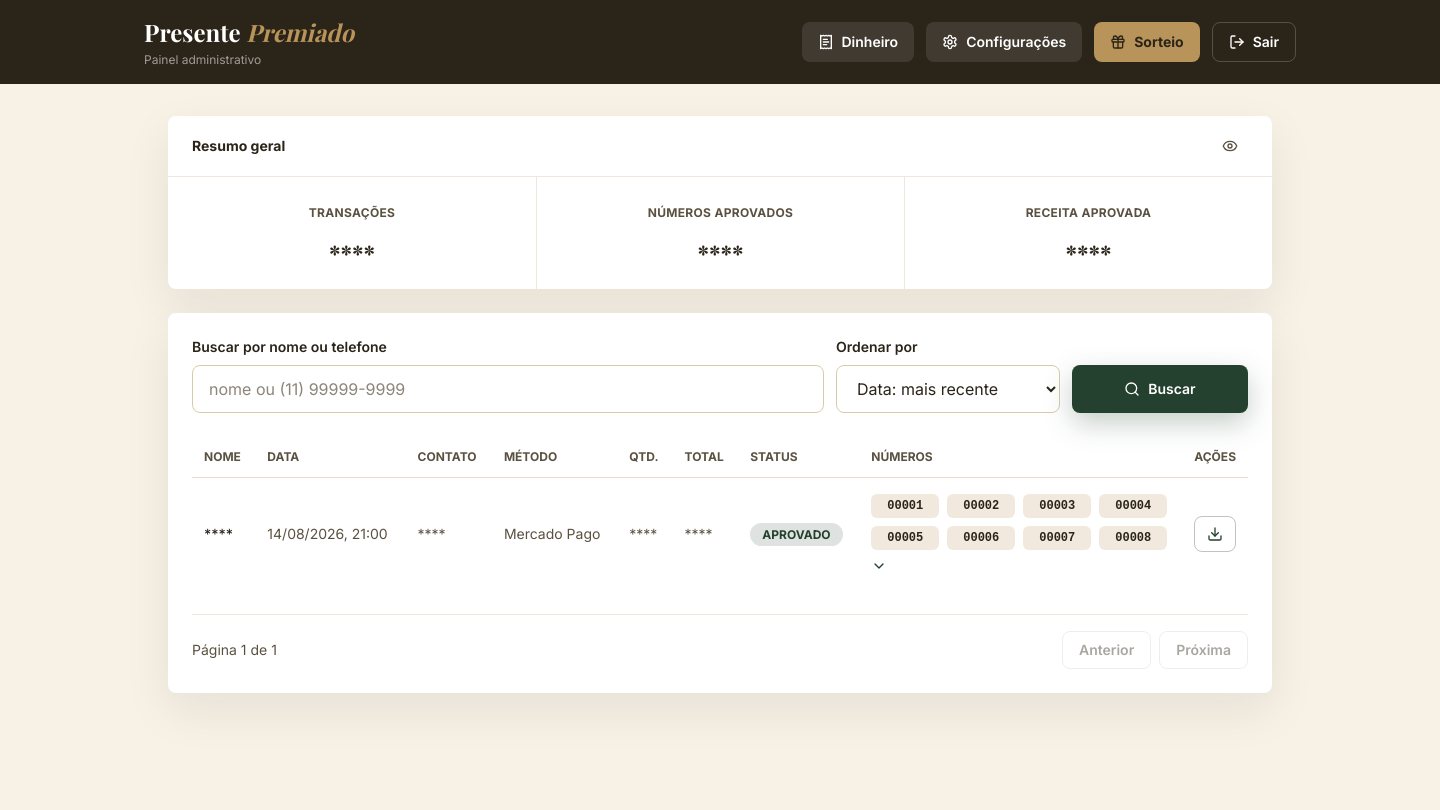
App › expands and collapses transaction lucky numbers above the initial limit
The image size is (1440, 810).
Expected: the text "00008" is shown, [1099,526,1167,550]
Expected: the text "00009" is not shown
Click the button named "00008" at (328, 534), box [192,478,1248,590]
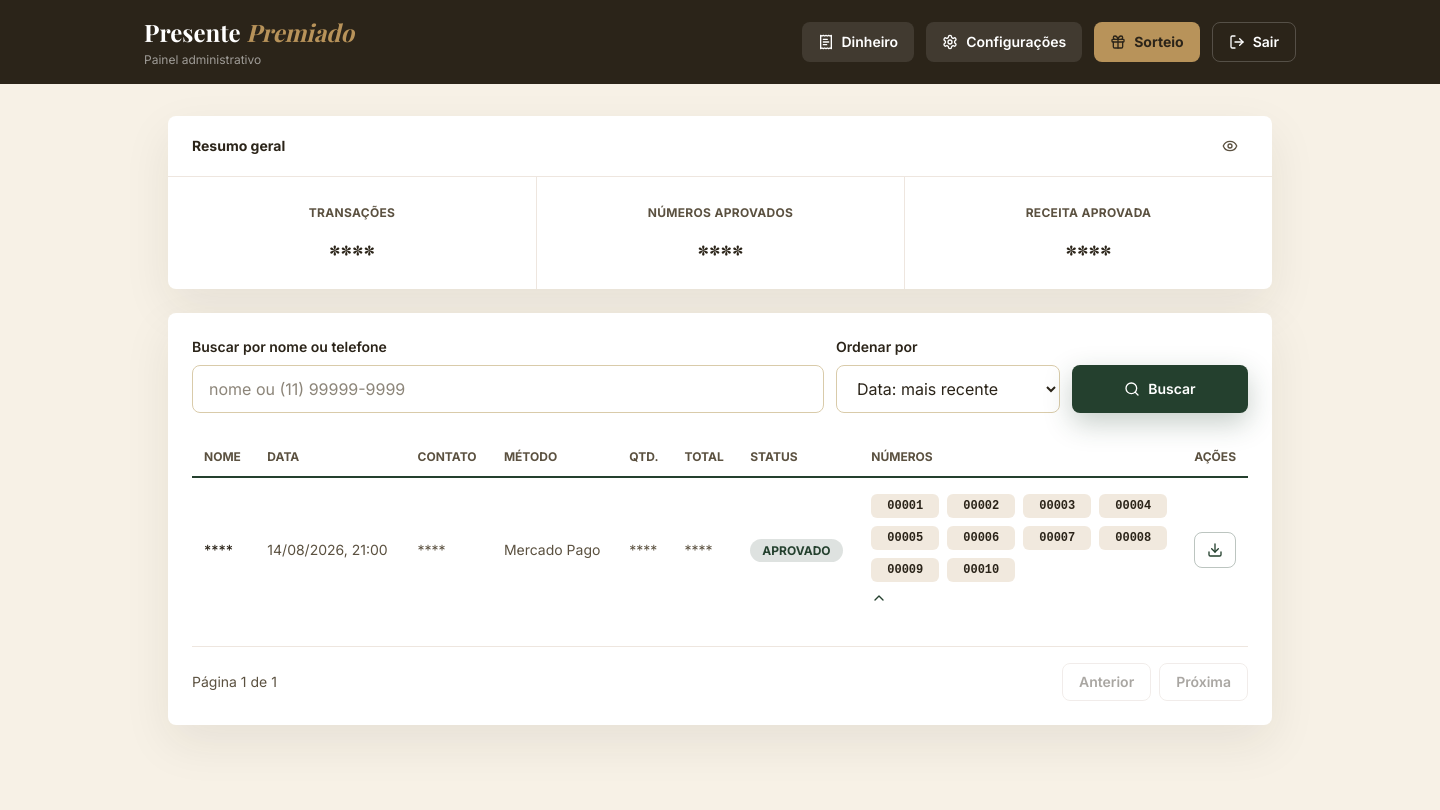
Expected: the text "00009" is shown, [871,558,939,582]
Expected: the text "00010" is shown, [947,558,1015,582]
Click the button named "00008" at (720, 550), box [192,478,1248,622]
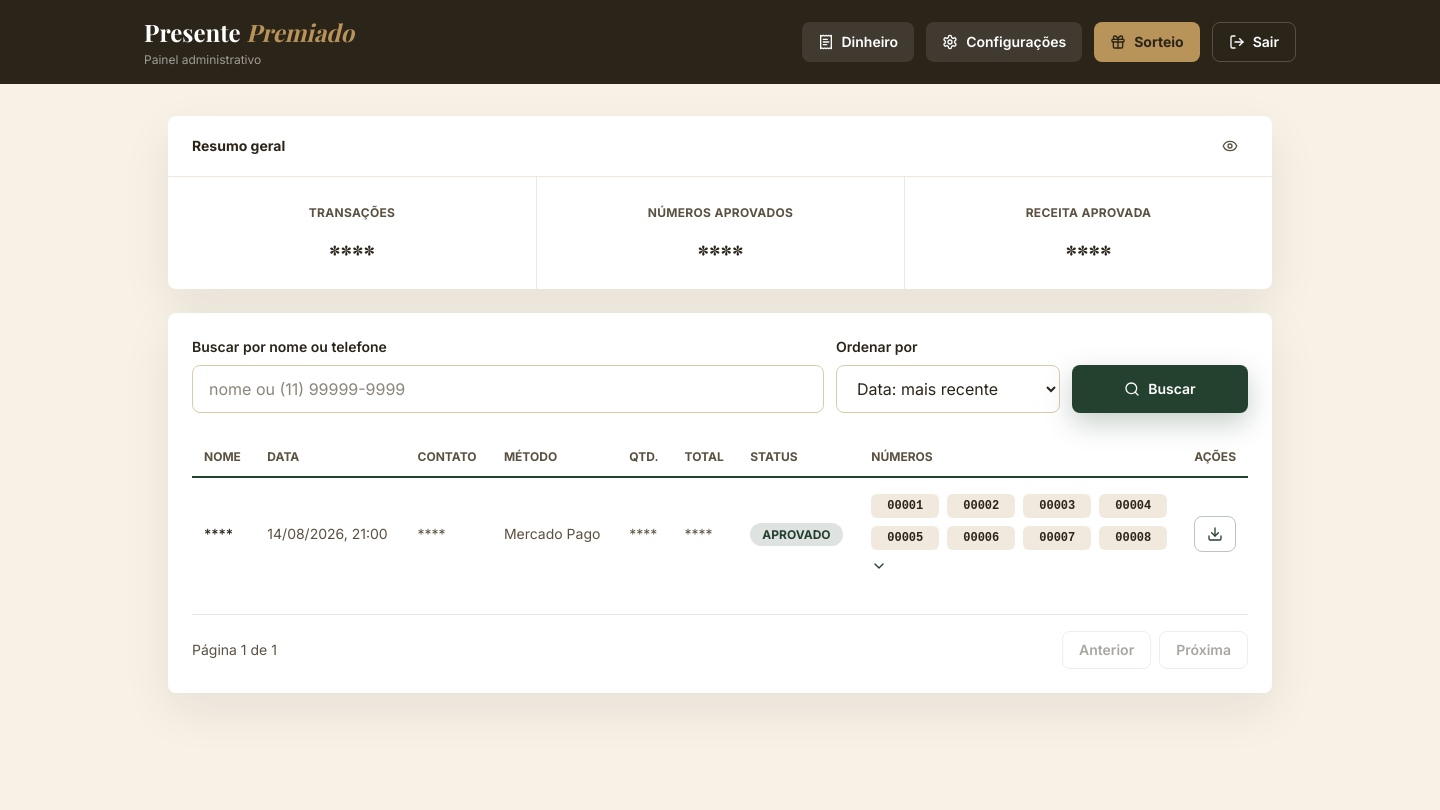
Expected: the text "00009" is gone
